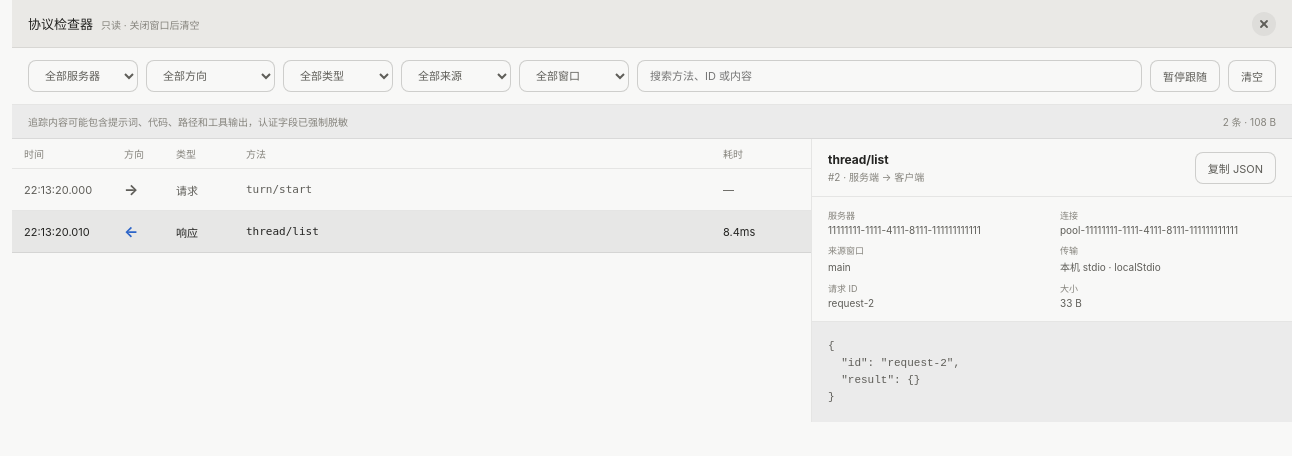
Scenario: ProtocolDebugWindow › 展示追踪消息、配对方法和脱敏后的 JSON
Step 1. Click the button "22:13:20.000 → 请求 turn/start —" → {"x": 58, "y": 190}, box [12,169,811,211]
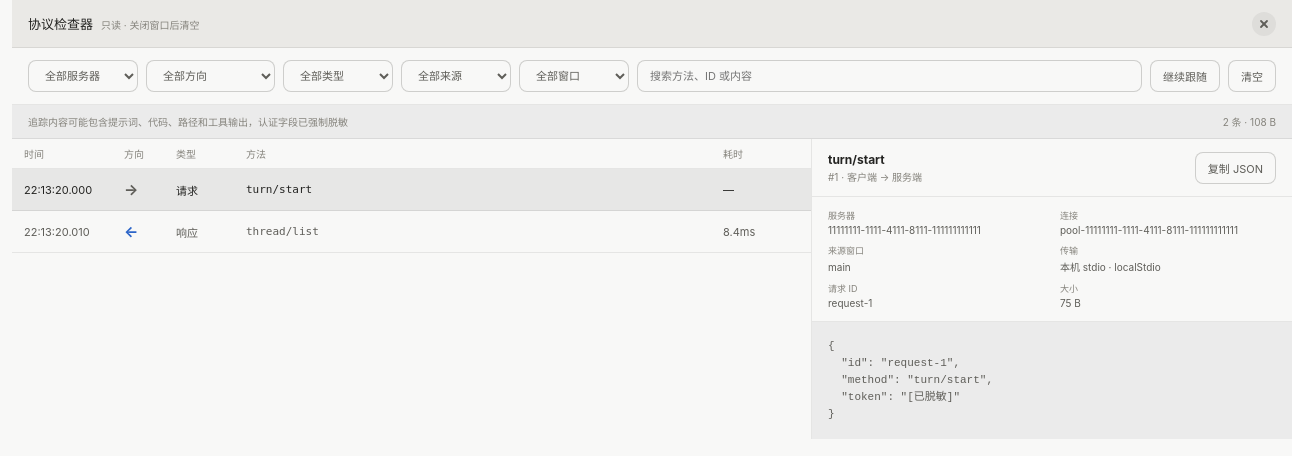
Expected: the text "2 条 · 108 B" is shown, [1223,114,1276,129]
Expected: the text "[已脱敏]" is shown, [828,340,993,420]
